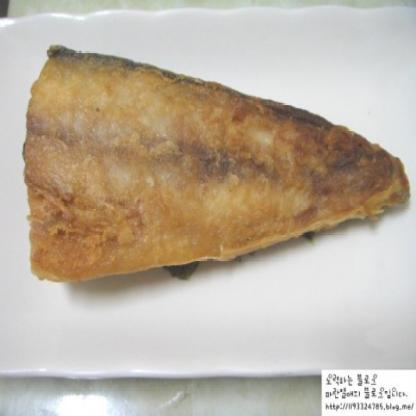Peixe: (29, 40, 409, 289)
